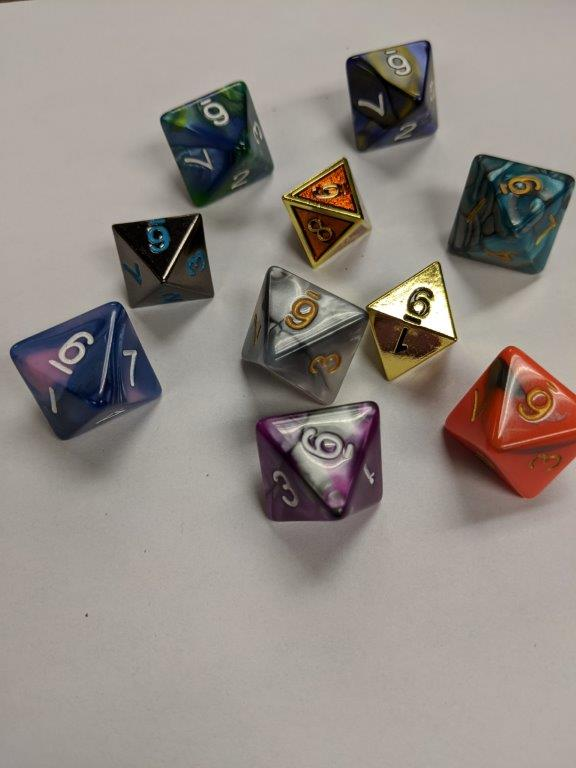d8-6: (6, 301, 167, 439), (442, 342, 576, 499), (231, 266, 368, 404), (252, 400, 384, 523), (444, 150, 570, 277), (157, 80, 273, 211), (281, 154, 374, 271), (366, 259, 457, 378), (347, 43, 438, 153), (110, 214, 219, 305)
